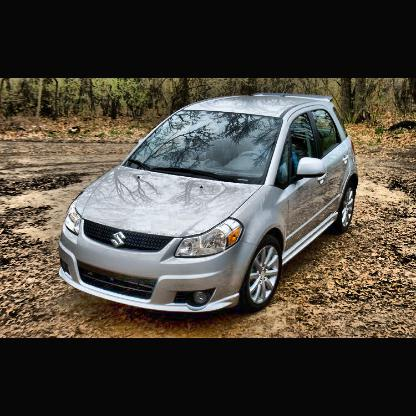Suzuki SX4 Hatchback 2012: (57, 92, 363, 318)
